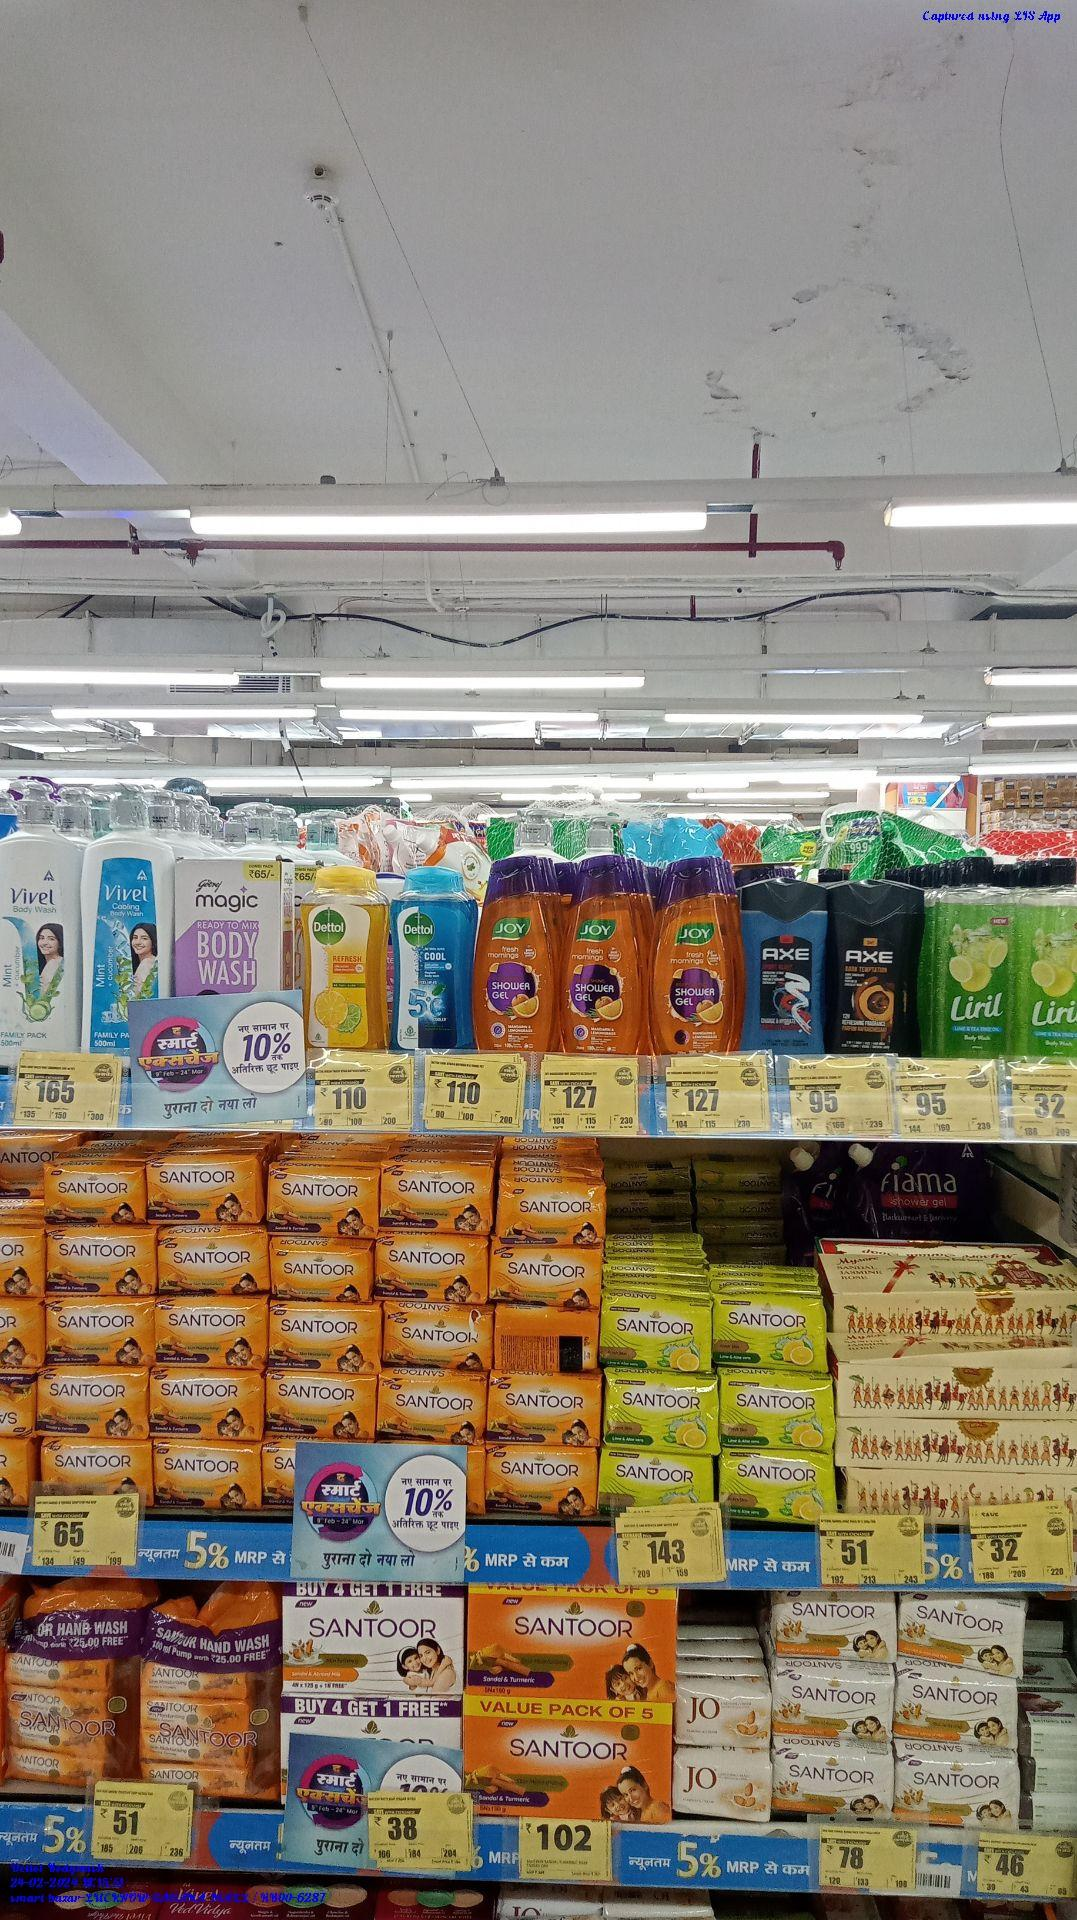Dettol_Bodywash_Cool: (394, 866, 469, 1046)
Dettol_Bodywash_Refresh: (297, 866, 382, 1047)
Joy_Shower_Gel_Mandarin_and_Lemongrass_250ML: (563, 855, 646, 1051), (477, 855, 555, 1052), (653, 857, 730, 1051)
Liril_Lime_and_Tea_Tree_Oil_Body_Wash_250ML: (940, 856, 1011, 1058), (1020, 858, 1077, 1063)
